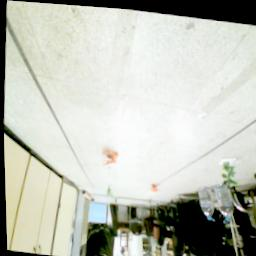wild: (219, 158, 238, 186), (100, 148, 120, 168), (105, 184, 113, 198), (150, 181, 159, 192)
